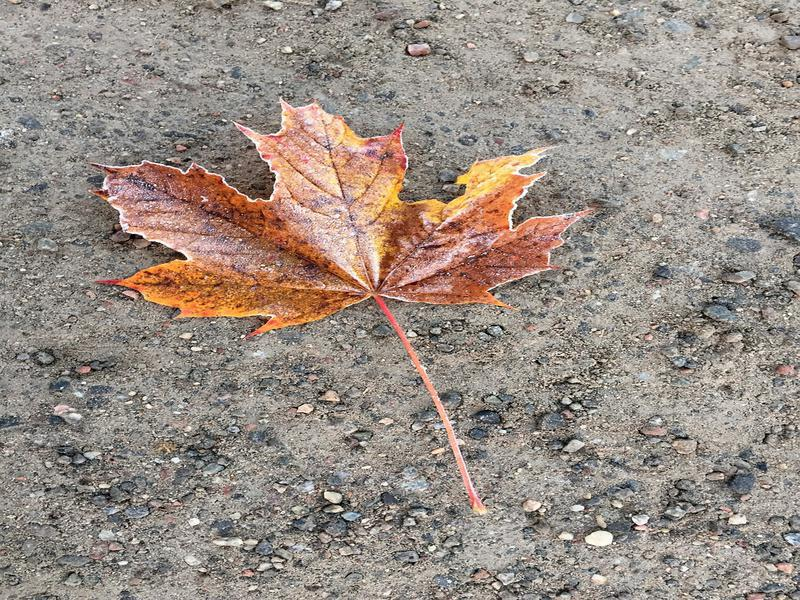leaf: (82, 90, 601, 518)
